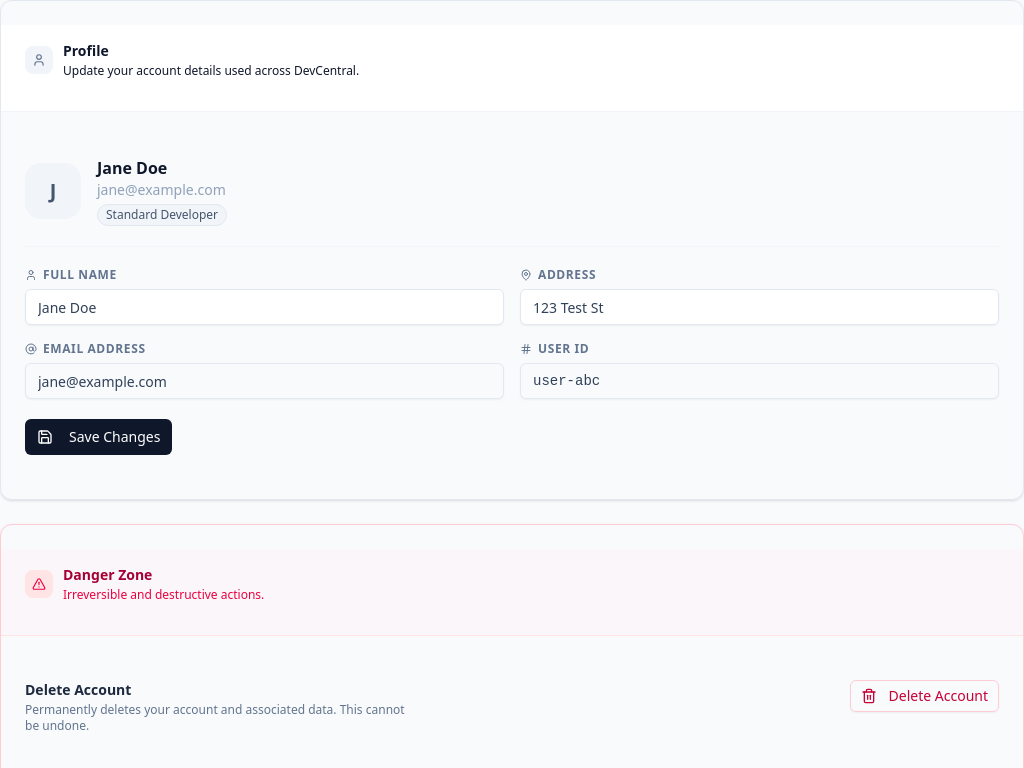
Scenario: GeneralSection › shows a success message after profile is saved successfully
Click the button "Save Changes": (99, 437) [25,419,172,455]
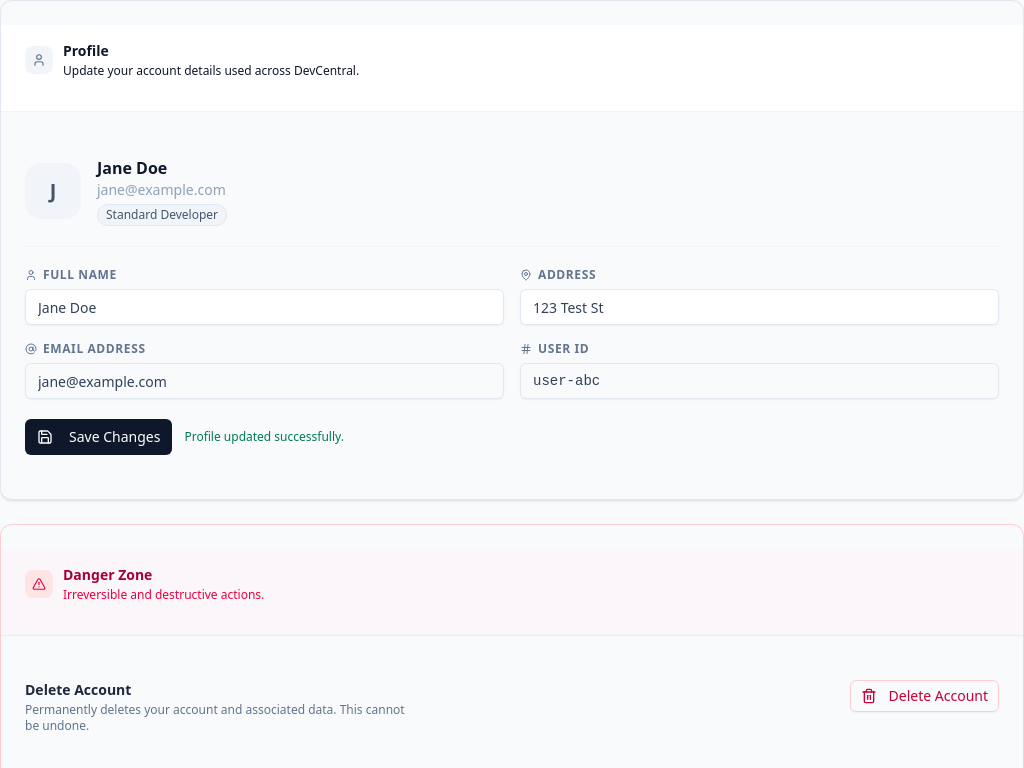
Now the text "Profile updated successfully." is shown, box [184,429,344,445]
